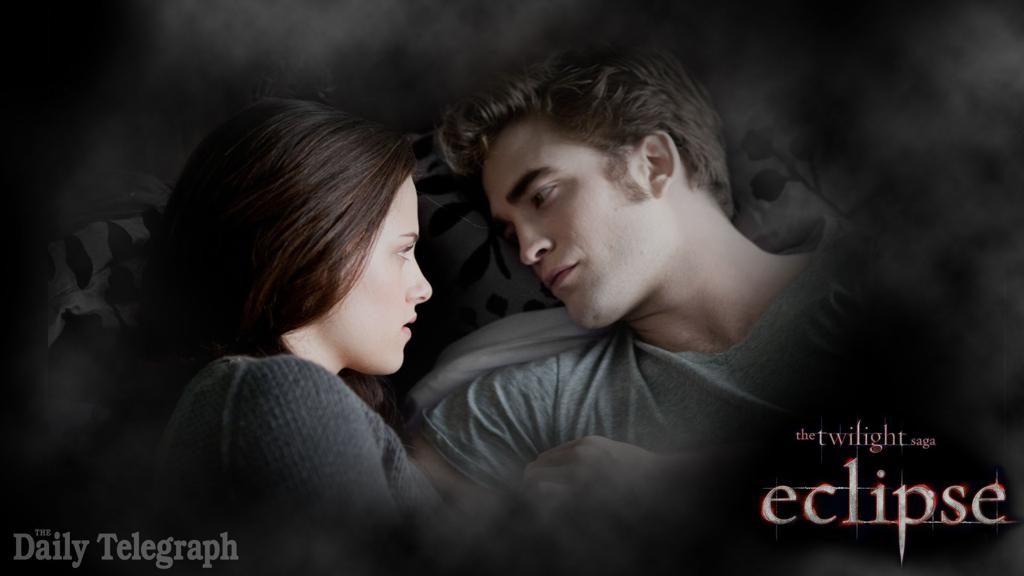face: (470, 120, 652, 326), (326, 164, 436, 376)
